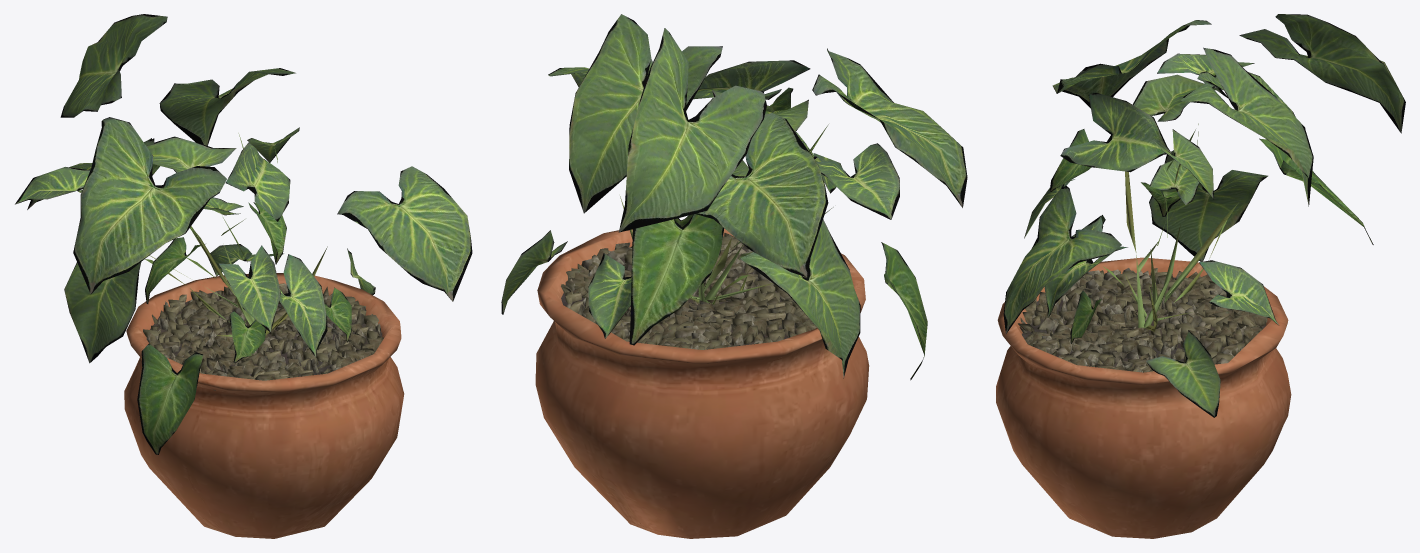
The model's file is plant.glb.
3 views of the same model, side by side, from view 1: azimuth 30°, elevation 25°; view 2: azimuth 150°, elevation 25°; view 3: azimuth 270°, elevation 25° (orthographic). The views are drawn at different scales.
Visible parts, largest first — view 1: potted_plant_02_leaves, potted_plant_02_pot; view 2: potted_plant_02_leaves, potted_plant_02_pot; view 3: potted_plant_02_pot, potted_plant_02_leaves.
Boxes of the visible parts, left/top/right/bottom form: potted_plant_02_leaves: left=15, top=14, right=472, bottom=454; potted_plant_02_pot: left=124, top=273, right=404, bottom=538; potted_plant_02_leaves: left=501, top=14, right=967, bottom=380; potted_plant_02_pot: left=535, top=228, right=869, bottom=538; potted_plant_02_pot: left=996, top=257, right=1291, bottom=538; potted_plant_02_leaves: left=1003, top=14, right=1405, bottom=417.
Size of the model in its own units: 0.7009 by 0.8395 by 0.6554.
Materials: 2 (2 with a texture image).
